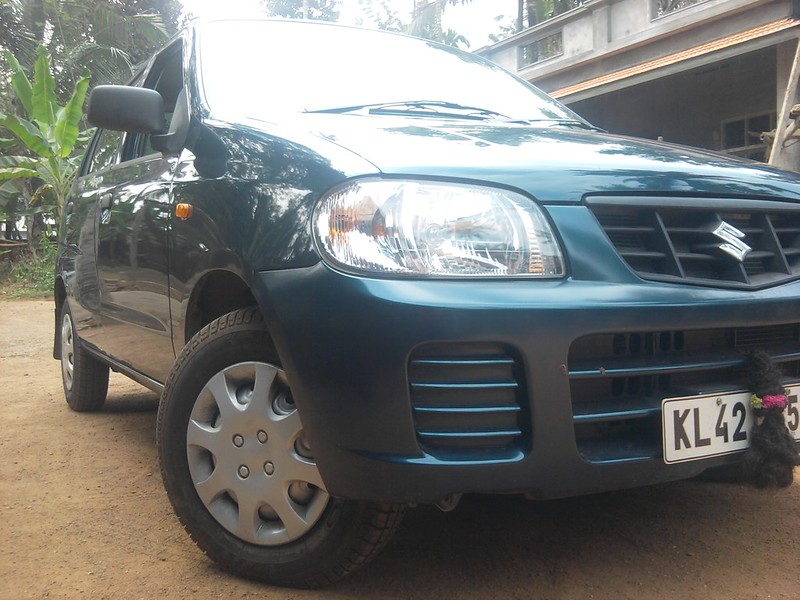car: (39, 12, 800, 585)
